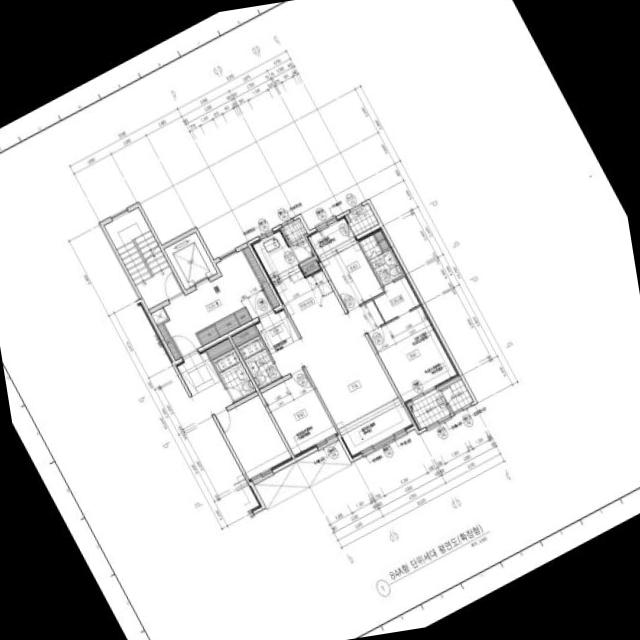background: (0, 0, 640, 640)
space_balconi: (407, 391, 450, 430)
space_bedroom: (368, 305, 459, 403), (306, 215, 383, 310), (261, 370, 338, 457)
space_dressroom: (373, 275, 421, 322)
space_elevator: (164, 232, 217, 289)
space_elevator_hall: (163, 250, 273, 356)
space_front: (255, 308, 299, 353)
space_kitchen: (250, 228, 345, 337)
space_living_room: (271, 300, 413, 458)
space_other: (243, 246, 279, 307), (441, 379, 473, 412), (157, 324, 180, 359), (214, 313, 240, 336), (231, 324, 257, 344), (198, 326, 219, 345), (373, 228, 390, 249), (234, 307, 252, 325), (151, 307, 167, 324), (302, 260, 319, 273)
space_outdoor_room: (347, 203, 378, 234)
space_staircase: (103, 207, 182, 309)
space_toilet: (237, 335, 281, 388), (358, 232, 402, 285)
